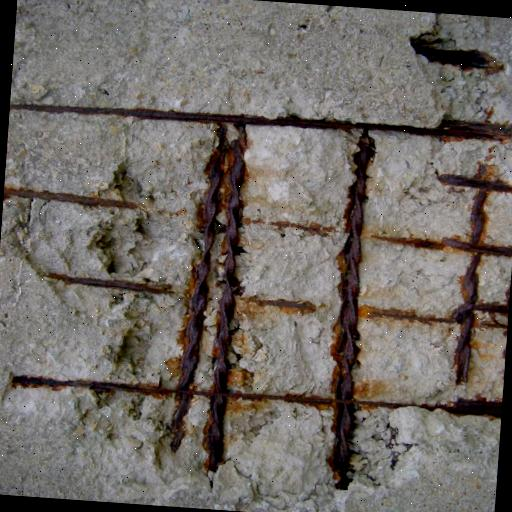spalling: (4, 20, 512, 492)
